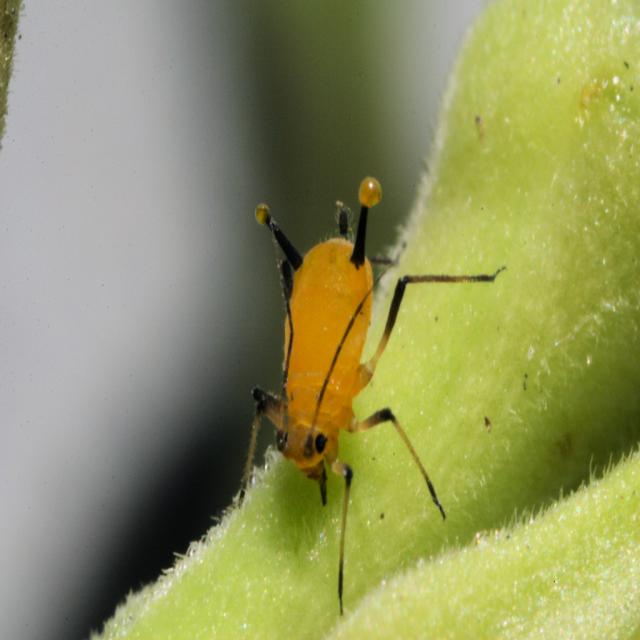Aphid-Grown-: (209, 159, 445, 510)
